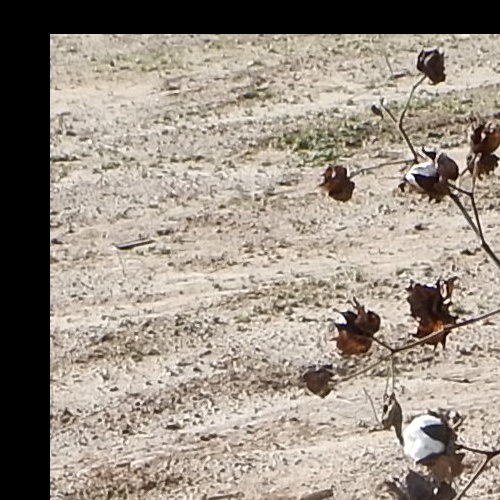immature_boll: (269, 275, 482, 409), (304, 135, 363, 209), (407, 37, 462, 100)
mature_boll: (395, 126, 459, 225)
